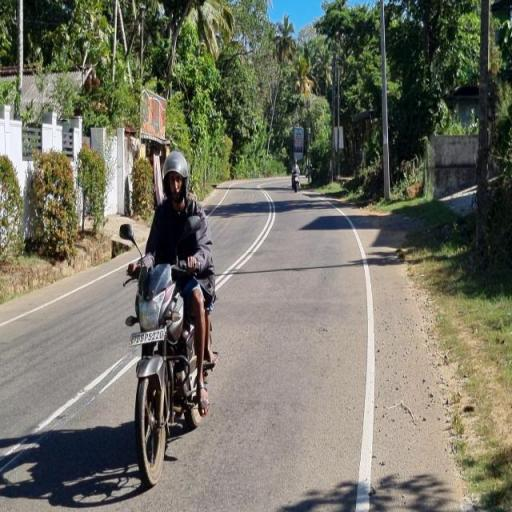double_white_line: (33, 350, 138, 430)
